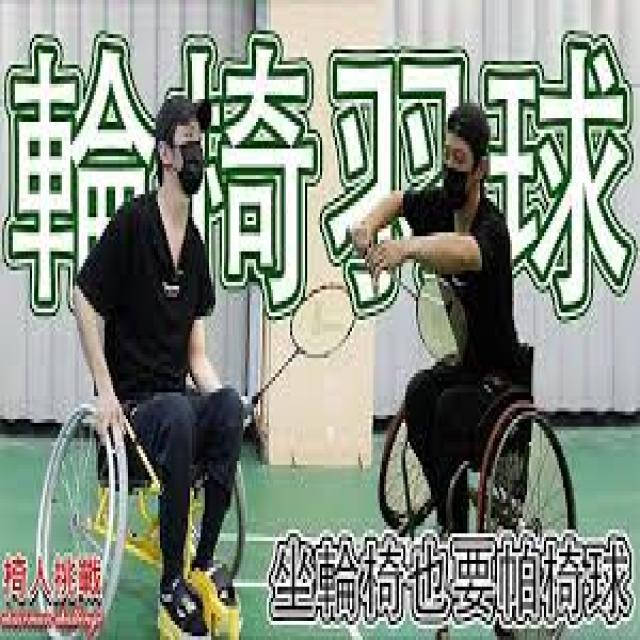wheelchairs: (28, 351, 264, 636), (369, 290, 582, 590)
